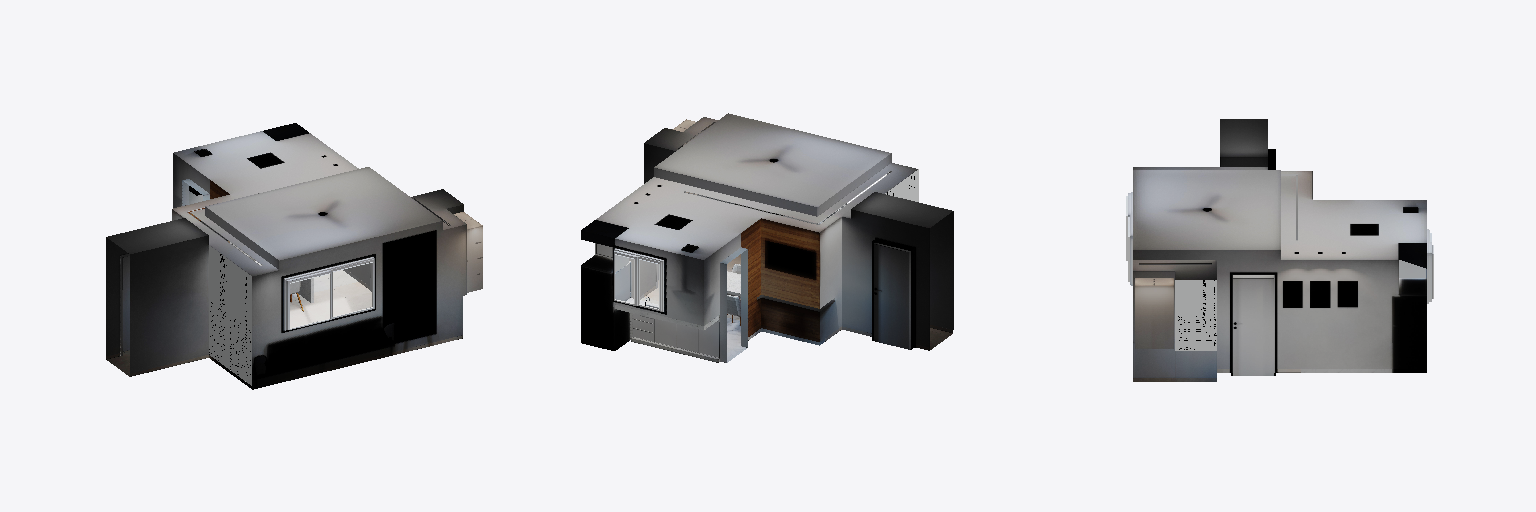
3 renders of one model, left to right at view 1: azimuth 30°, elevation 25°; view 2: azimuth 150°, elevation 25°; view 3: azimuth 270°, elevation 25°, orthographic.
Visible parts, largest first — view 1: Object347; view 2: Object347; view 3: Object347.
Part boxes in pixels (bbox=[...]): Object347: bbox=[106, 123, 482, 389]; Object347: bbox=[581, 113, 953, 362]; Object347: bbox=[1126, 119, 1433, 381].
Bounding box in the file's own units: 6.92 × 2.6 × 5.92.
Materials: 1 (1 with a texture image).